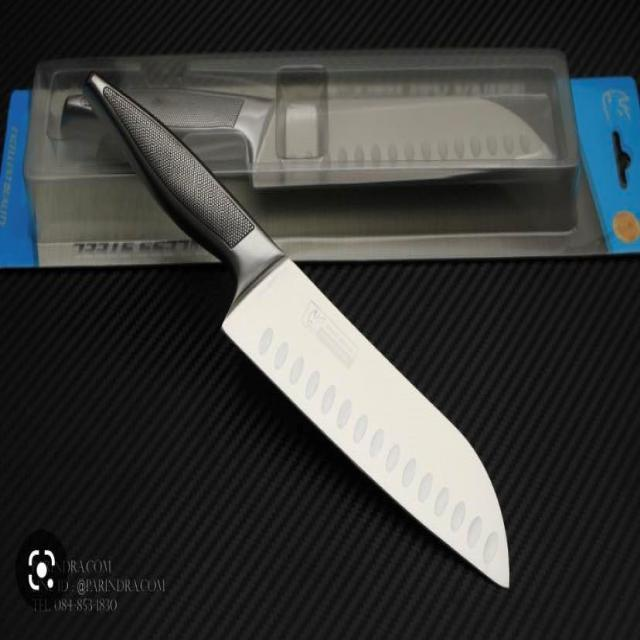Knife: (87, 70, 513, 588)
